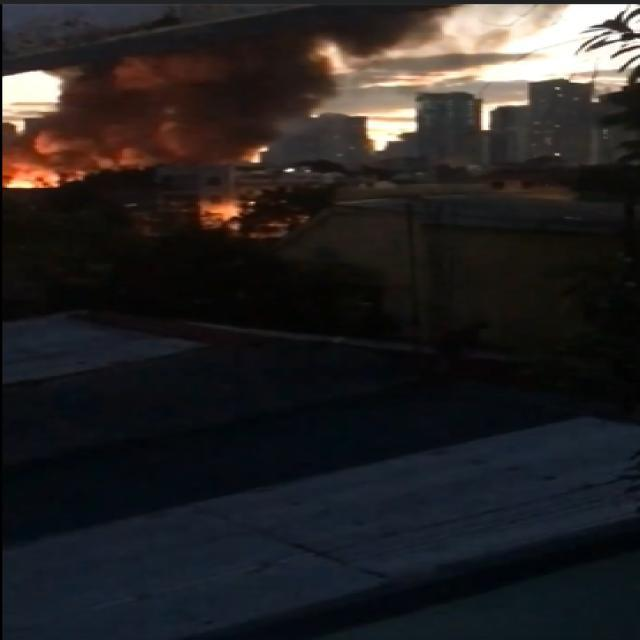Fire: (1, 169, 59, 189), (204, 202, 242, 228)
Smoke: (0, 3, 457, 180)
